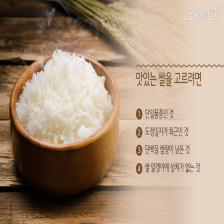rice: (16, 49, 113, 144)
